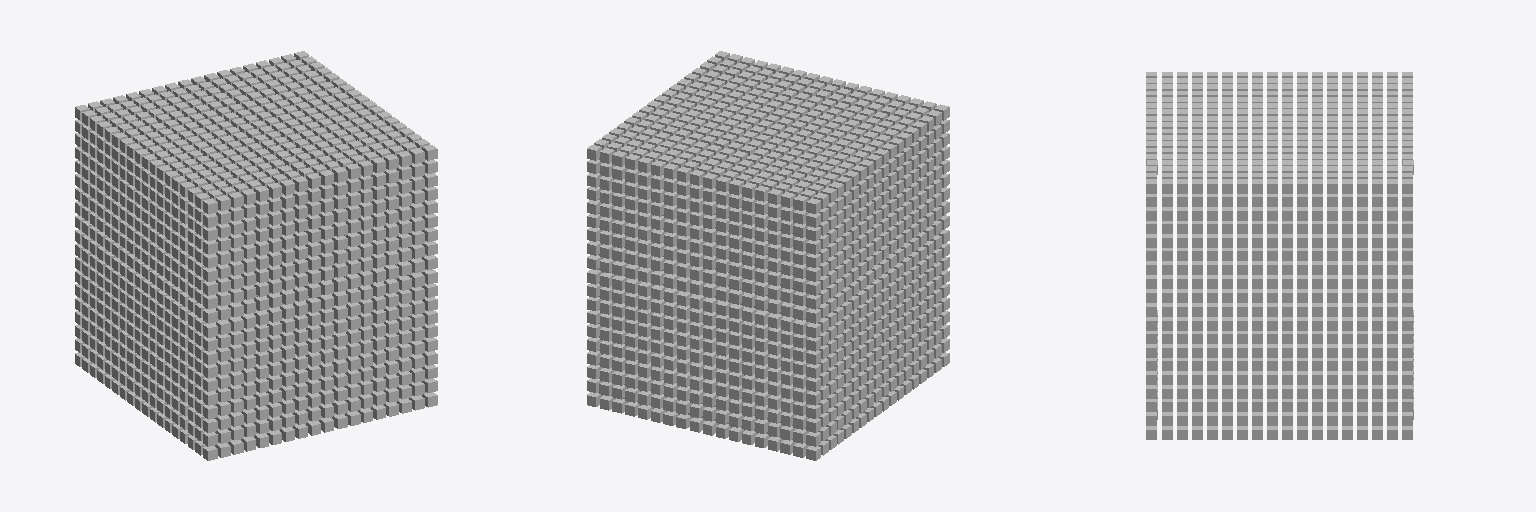
File: BigCube_triangulate.obj
The picture shows the model from 3 angles: view 1: azimuth 30°, elevation 25°; view 2: azimuth 150°, elevation 25°; view 3: azimuth 270°, elevation 25°; orthographic projection.
Bounding box in the file's own units: 17.71 × 18.94 × 17.89.